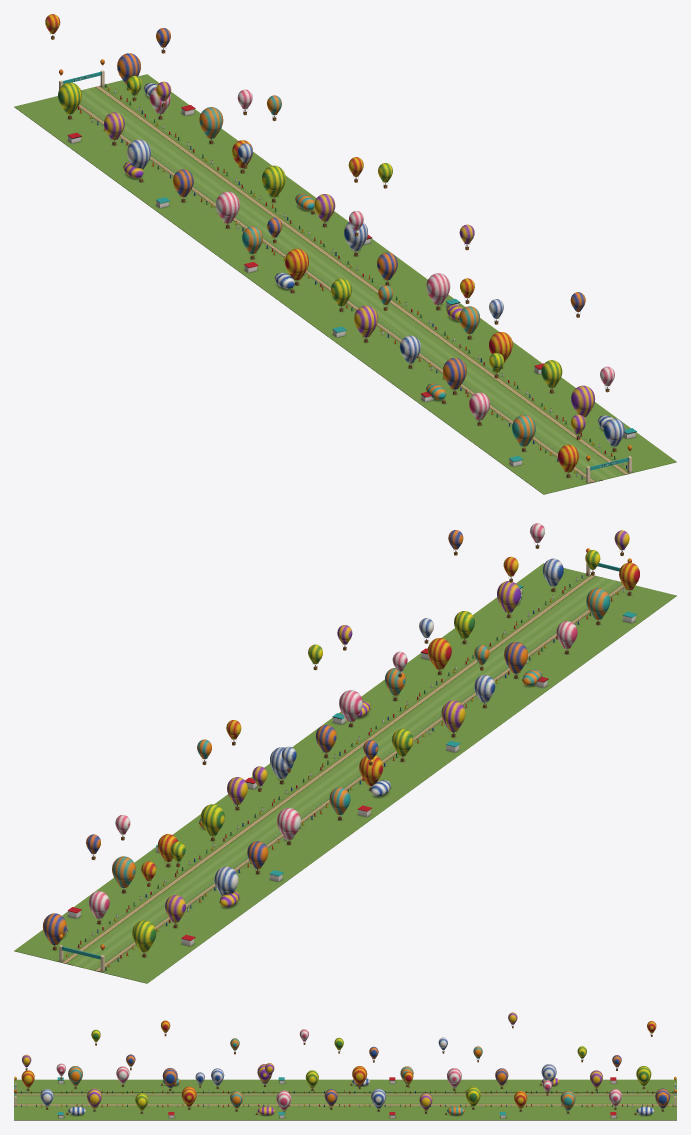
The model's file is campo_globos.glb.
The picture shows the model from 3 angles, top to bottom: view 1: azimuth 30°, elevation 25°; view 2: azimuth 150°, elevation 25°; view 3: azimuth 270°, elevation 25°; orthographic projection. The views are drawn at different scales.
Visible parts, largest first — view 1: campo_globos; view 2: campo_globos; view 3: campo_globos.
Part boxes in pixels (<box>): campo_globos: <box>14,14,676,494</box>; campo_globos: <box>14,523,676,983</box>; campo_globos: <box>14,1012,676,1120</box>.
Size of the model in its own units: 61.5 by 50.92 by 420.
1 material, 1 textured.
